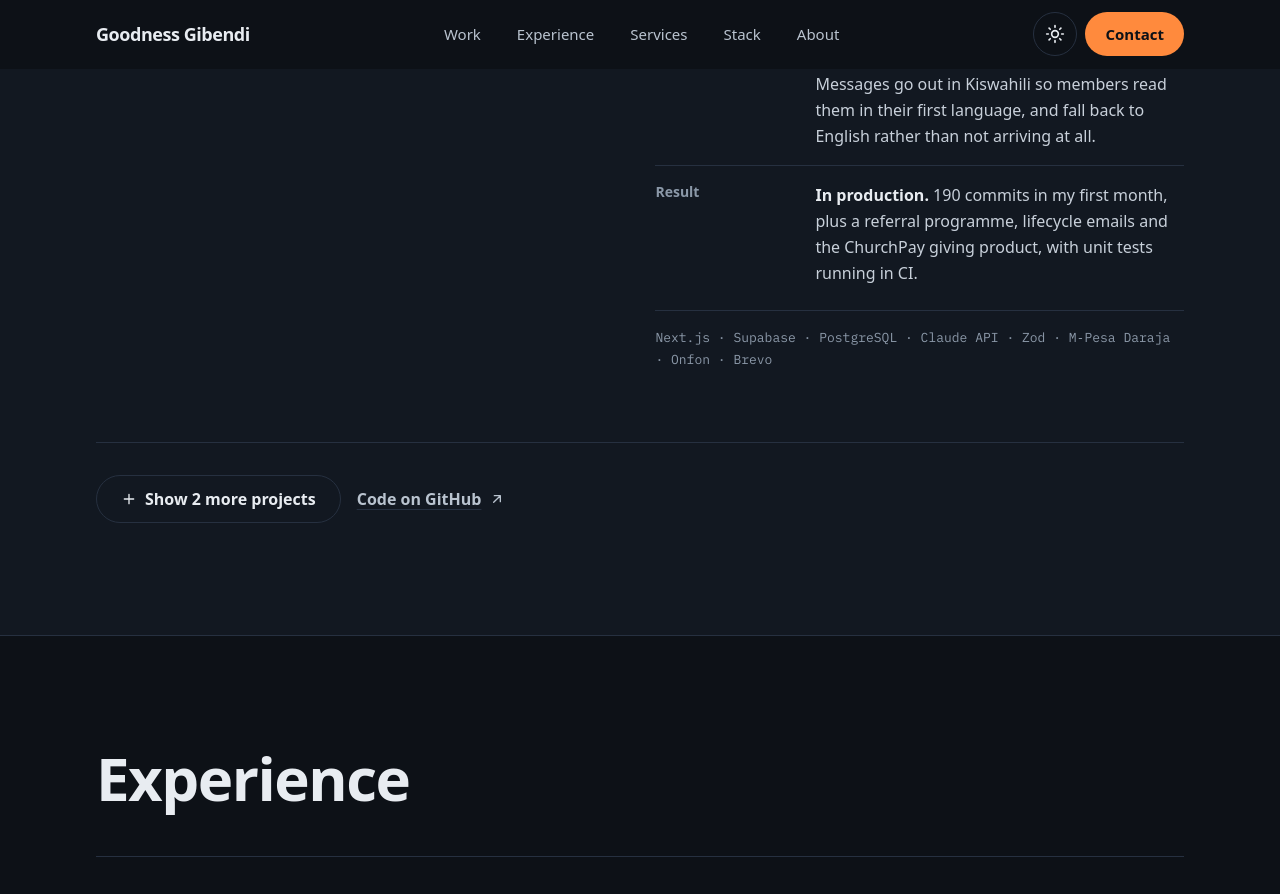
Test: hidden projects open from the Show more button only
(page scrolled)
What coordinates should you click on to do the following:
click the button "Show 2 more projects"
I would click on:
 (218, 499)
Its box is [96, 475, 341, 523].
(page scrolled)
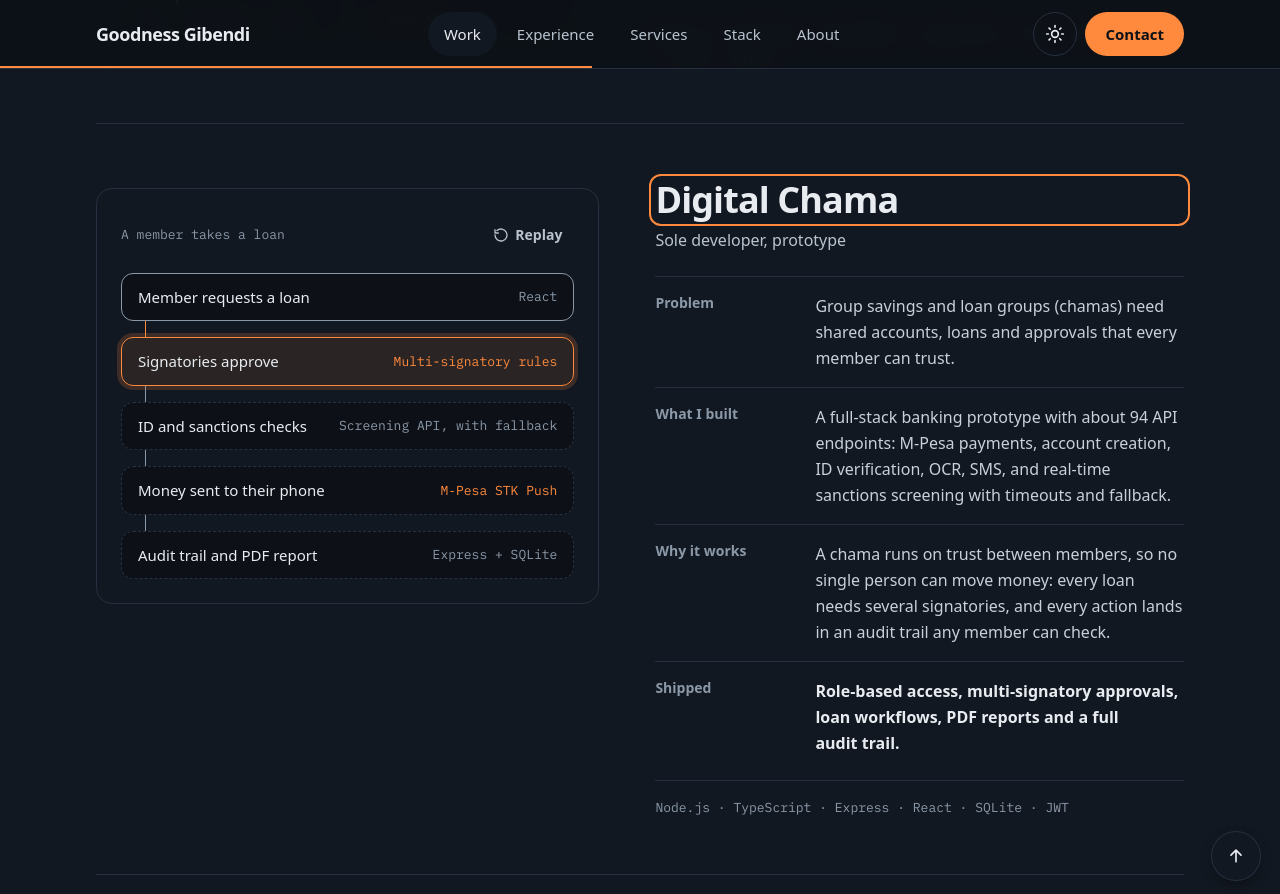
Expected: the element with id "case-digital-chama" is shown
